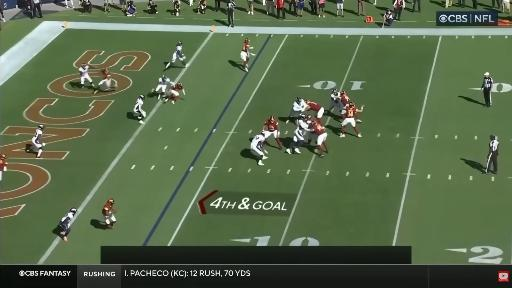Helmet: (69, 207, 77, 214), (269, 116, 275, 122), (107, 199, 114, 204), (300, 114, 307, 119), (260, 131, 265, 137), (139, 95, 145, 100), (296, 98, 302, 103), (38, 125, 44, 130), (104, 68, 109, 74), (332, 89, 337, 94), (349, 102, 354, 107), (178, 82, 182, 88), (0, 155, 6, 159), (162, 75, 167, 79), (82, 63, 87, 67), (245, 38, 249, 43), (307, 115, 312, 119), (340, 91, 345, 94), (306, 100, 311, 103), (178, 42, 182, 45)
Jersey: (60, 212, 74, 228), (31, 128, 43, 144), (251, 134, 265, 146), (265, 120, 278, 131), (312, 124, 325, 135), (294, 126, 304, 140), (293, 101, 305, 111), (298, 120, 310, 130), (103, 203, 113, 215), (174, 45, 183, 58), (308, 102, 321, 111), (346, 107, 357, 117), (331, 92, 341, 102), (79, 66, 89, 76), (134, 99, 143, 110), (341, 96, 350, 106), (159, 78, 170, 85), (0, 159, 7, 170), (102, 70, 110, 79), (173, 84, 182, 91), (243, 43, 249, 52)
Player: (286, 114, 312, 153), (340, 102, 363, 137), (263, 116, 282, 149), (26, 125, 45, 158), (59, 208, 77, 242), (311, 122, 328, 157), (94, 68, 117, 93), (166, 42, 187, 69), (286, 98, 306, 124), (251, 133, 267, 165), (162, 82, 185, 103), (152, 75, 170, 99), (306, 101, 324, 125), (298, 114, 313, 142), (241, 39, 253, 71), (103, 199, 116, 228), (79, 63, 94, 87), (134, 95, 146, 123), (329, 89, 341, 111), (340, 91, 350, 117), (0, 155, 7, 181)
